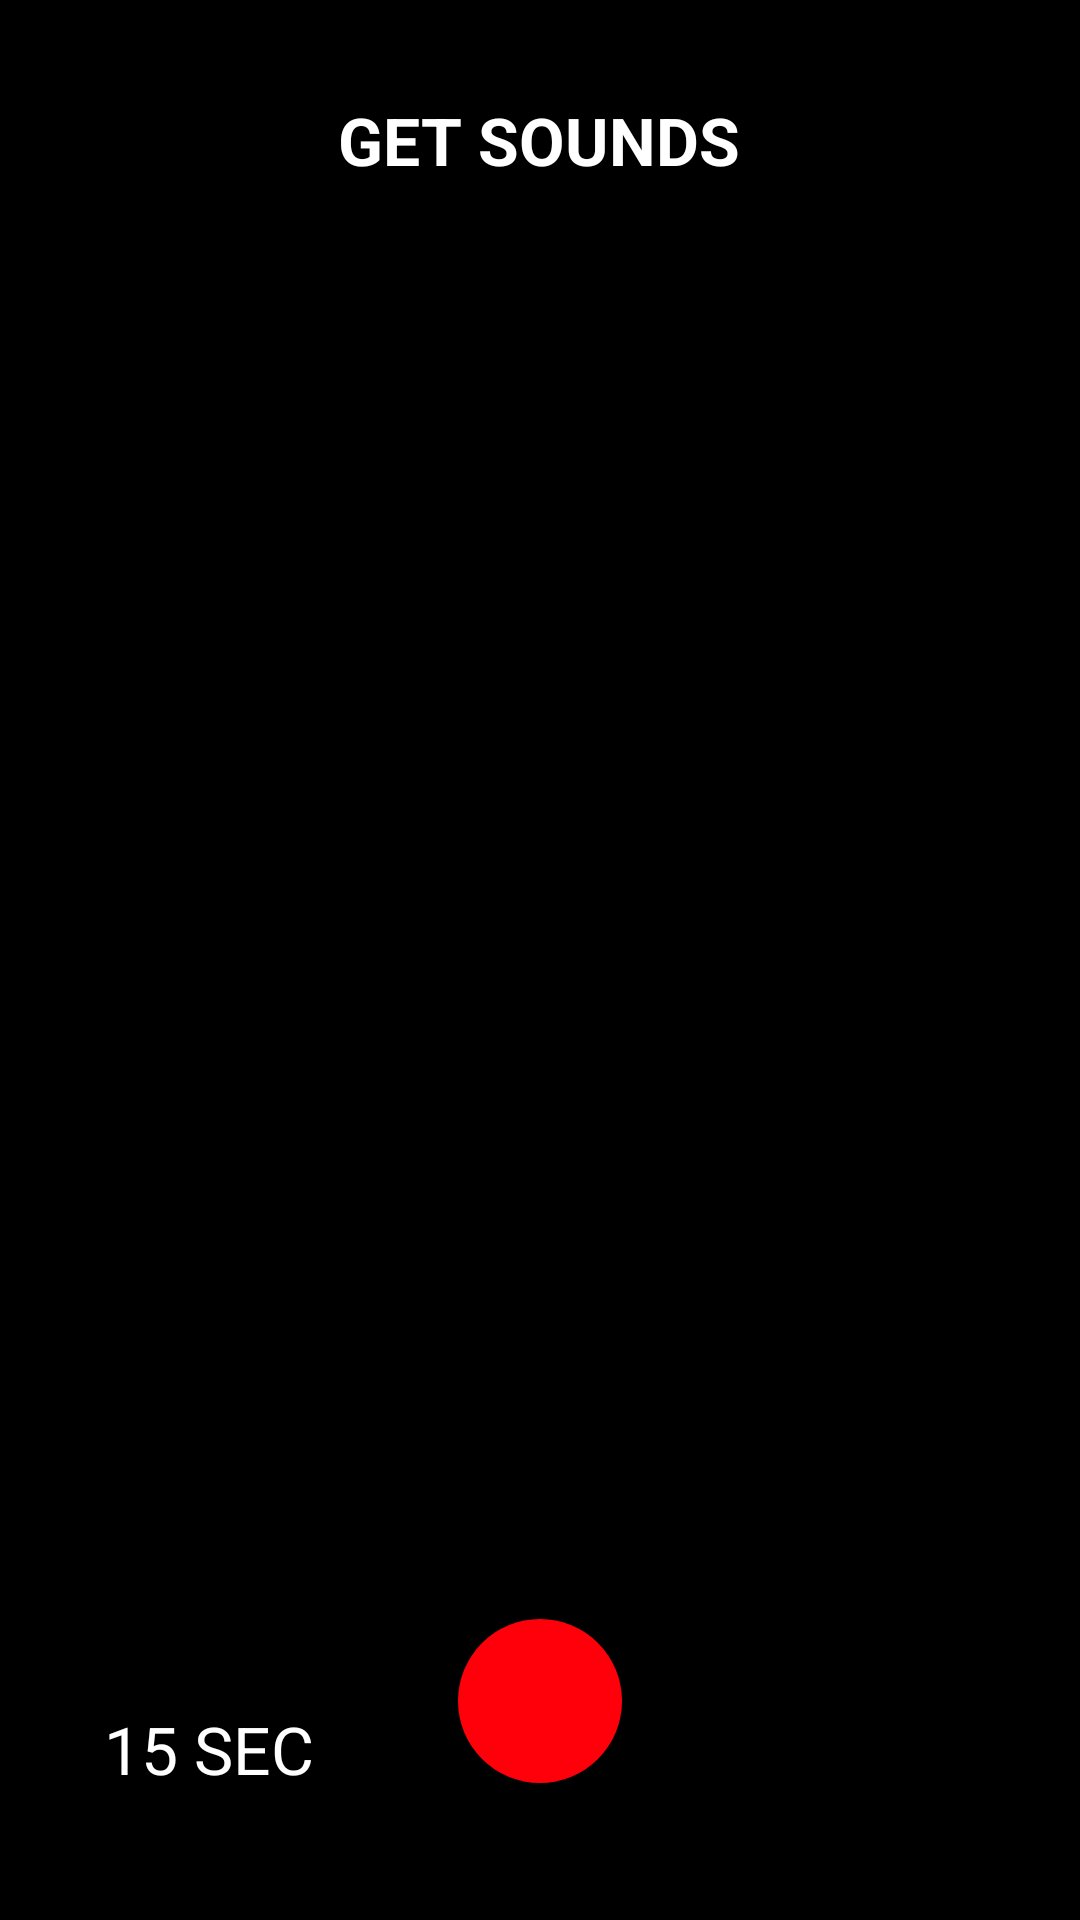

Where icons sit on this 1080 × 1920 app screen, as [left=x1, top=y1, right=x2, bottom=y2]:
record bussy: [left=458, top=1619, right=622, bottom=1783]
